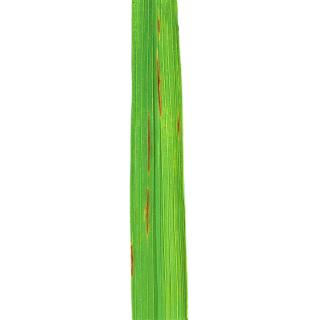Bercak-Cokelat-Sempit: (151, 44, 165, 117), (142, 109, 154, 176), (171, 108, 187, 144), (142, 184, 150, 239), (129, 244, 140, 282), (156, 12, 163, 38)
